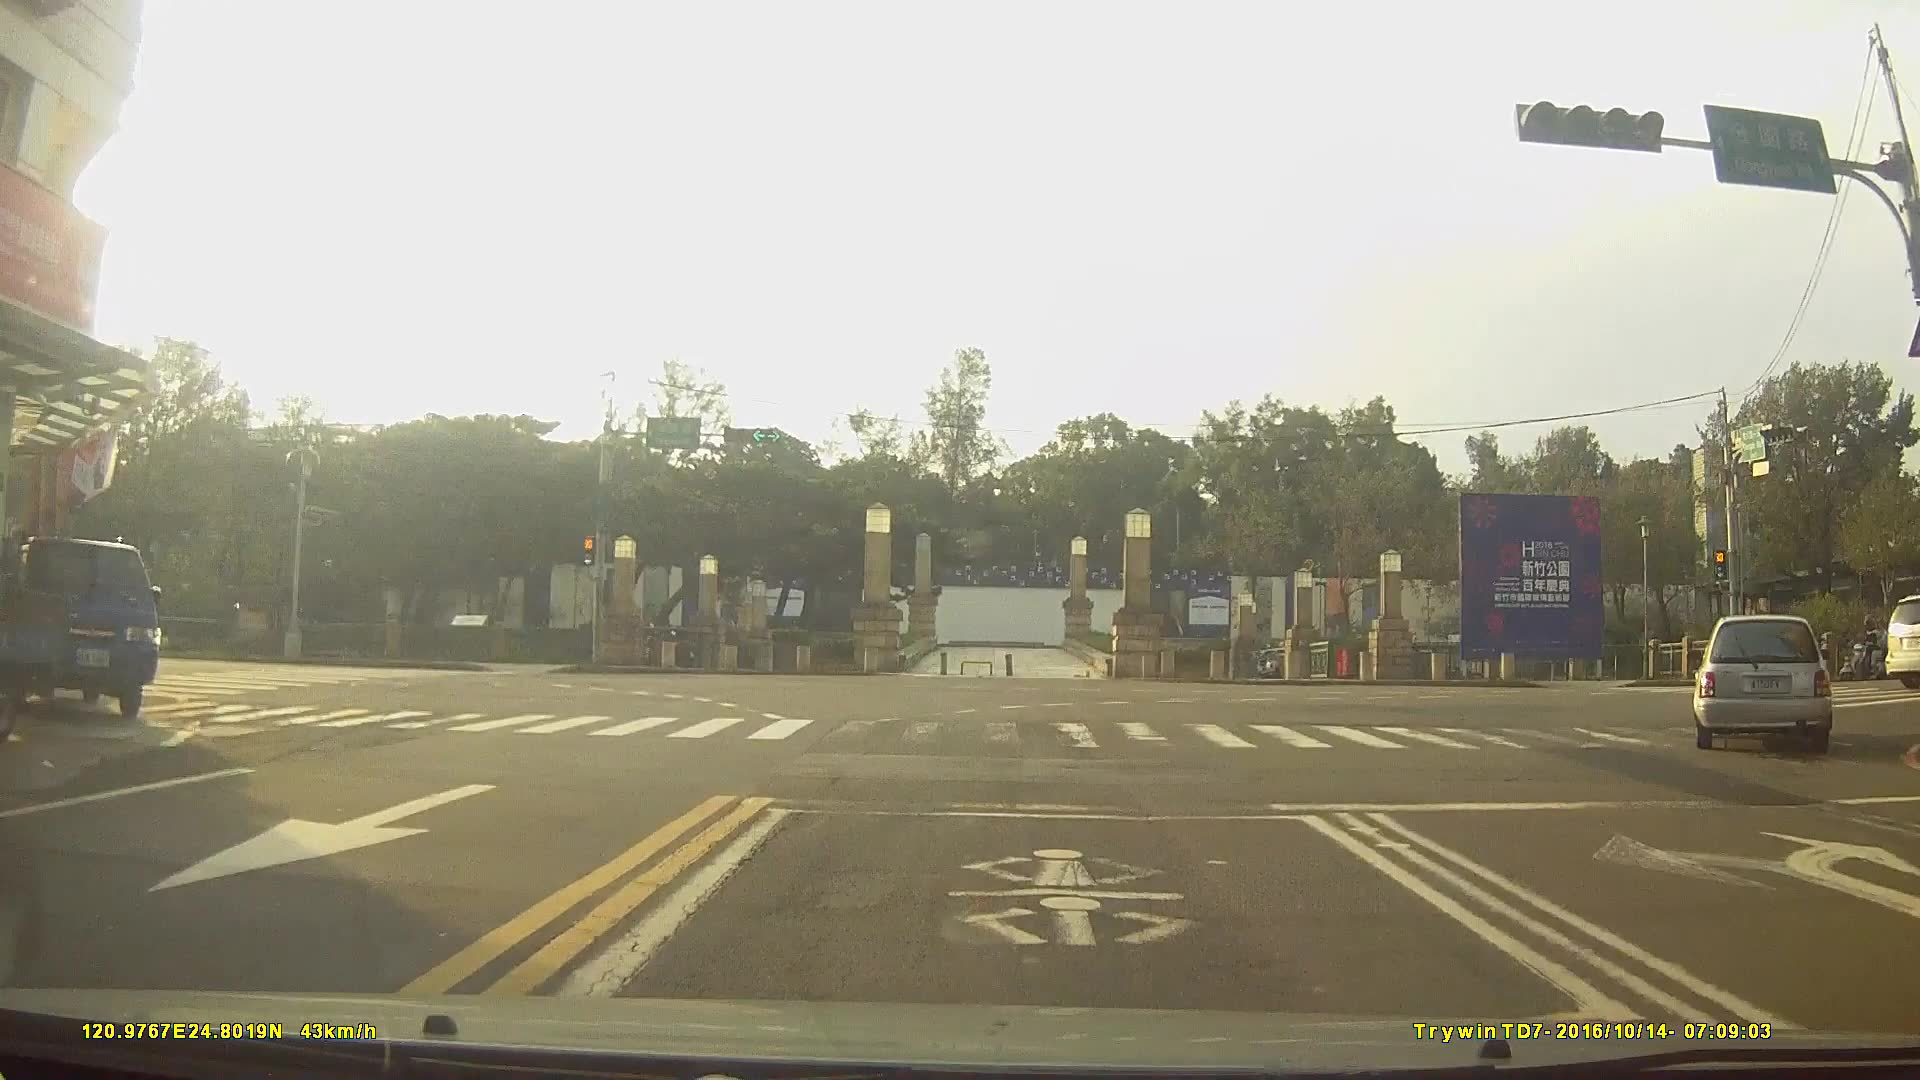vehicle: (8, 531, 160, 717), (1691, 613, 1834, 748)
